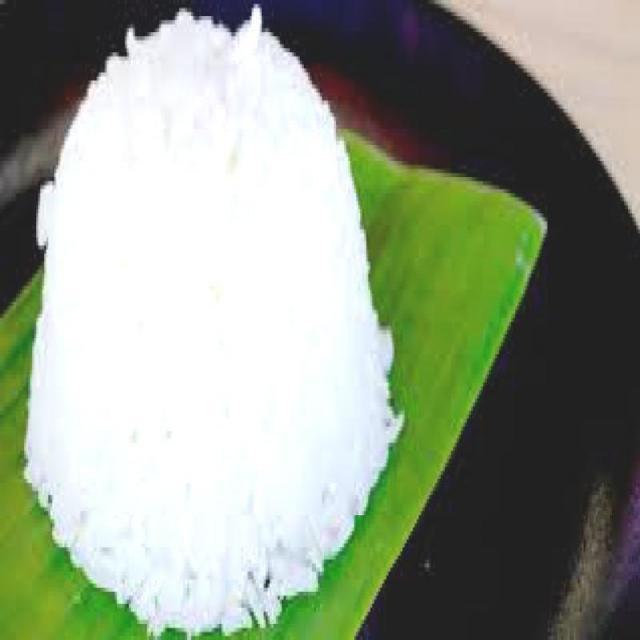Chicken -Chicken Inasal-: (24, 6, 398, 635)
